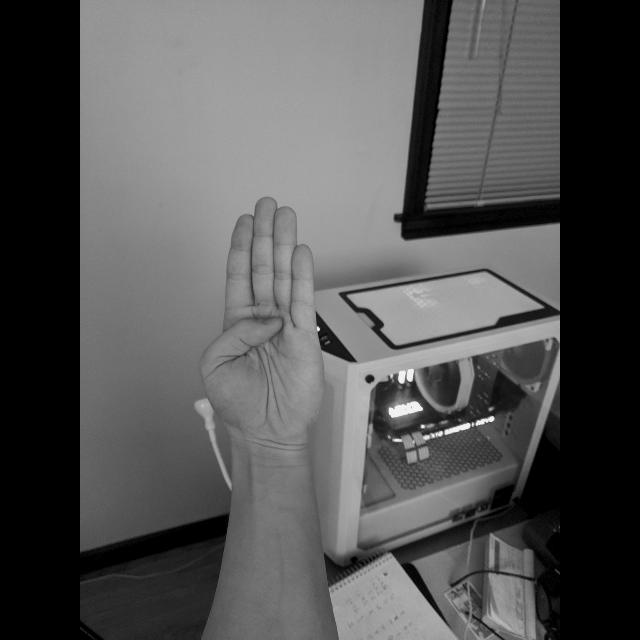B: (195, 192, 329, 454)
